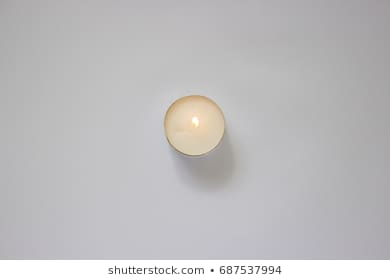Fire: (188, 115, 201, 129)
